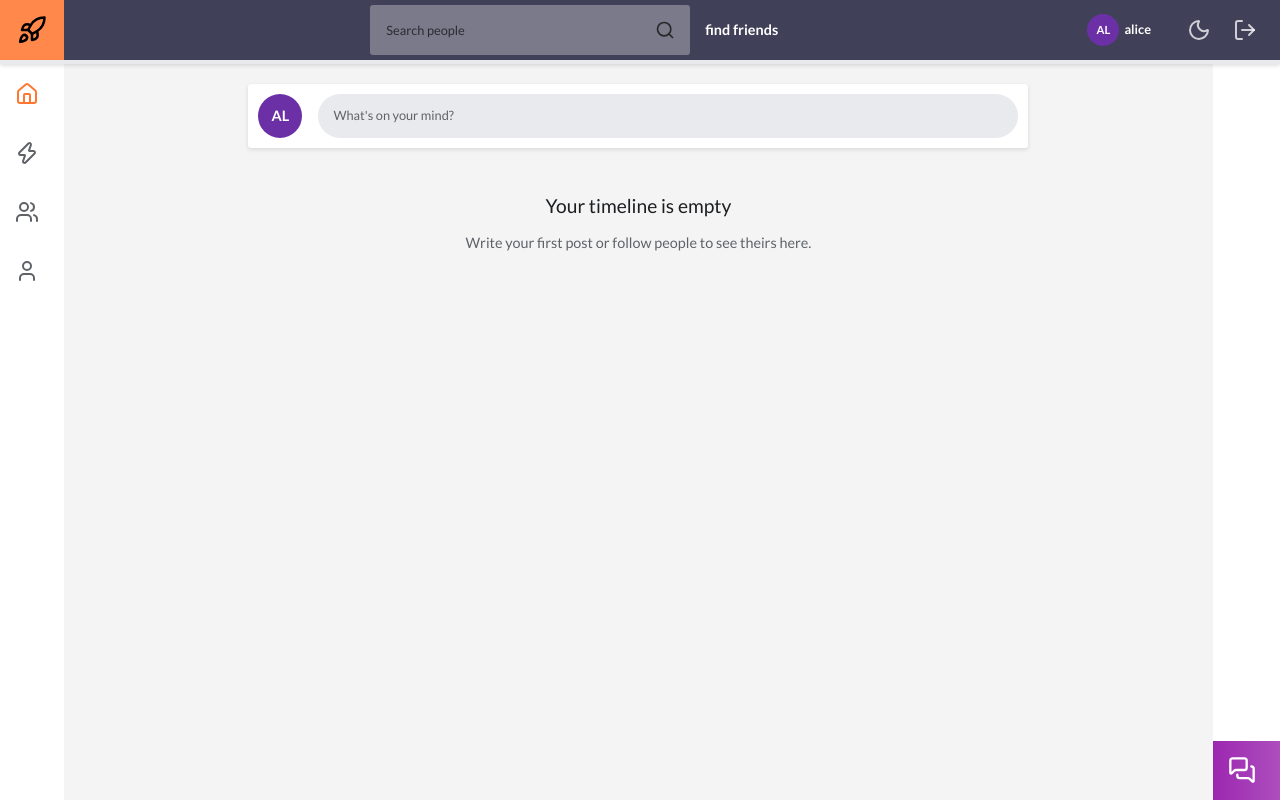
it: own posts › keeps the composer open and shows the field error of the server
Expected: the text "Your timeline is empty" is shown, [546,190,731,223]
Click the button "What's on your mind?" at [394, 115], box [318,94,1018,138]
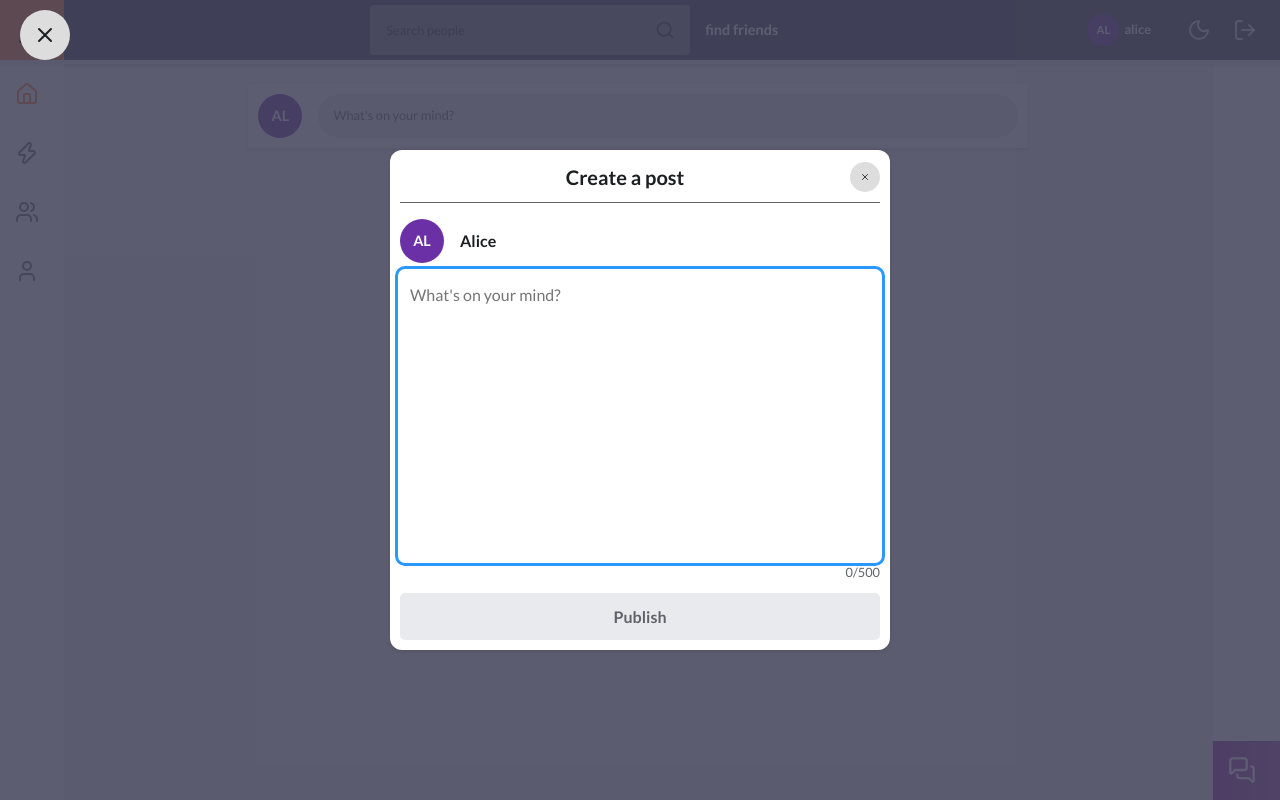
Type "Hello" into the text box named "Post content" at [640, 416], box [400,271,880,561]
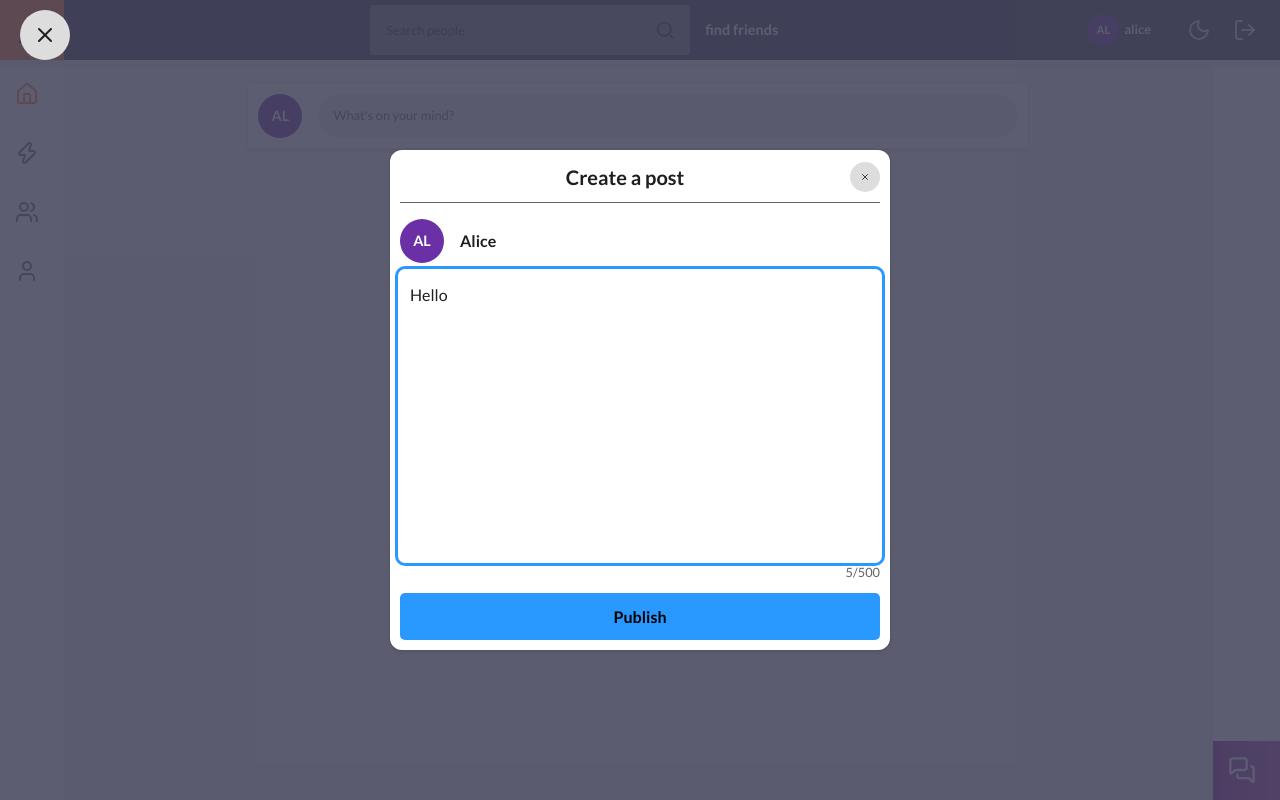
Click the button "Publish" at [640, 616], box [400,593,880,640]
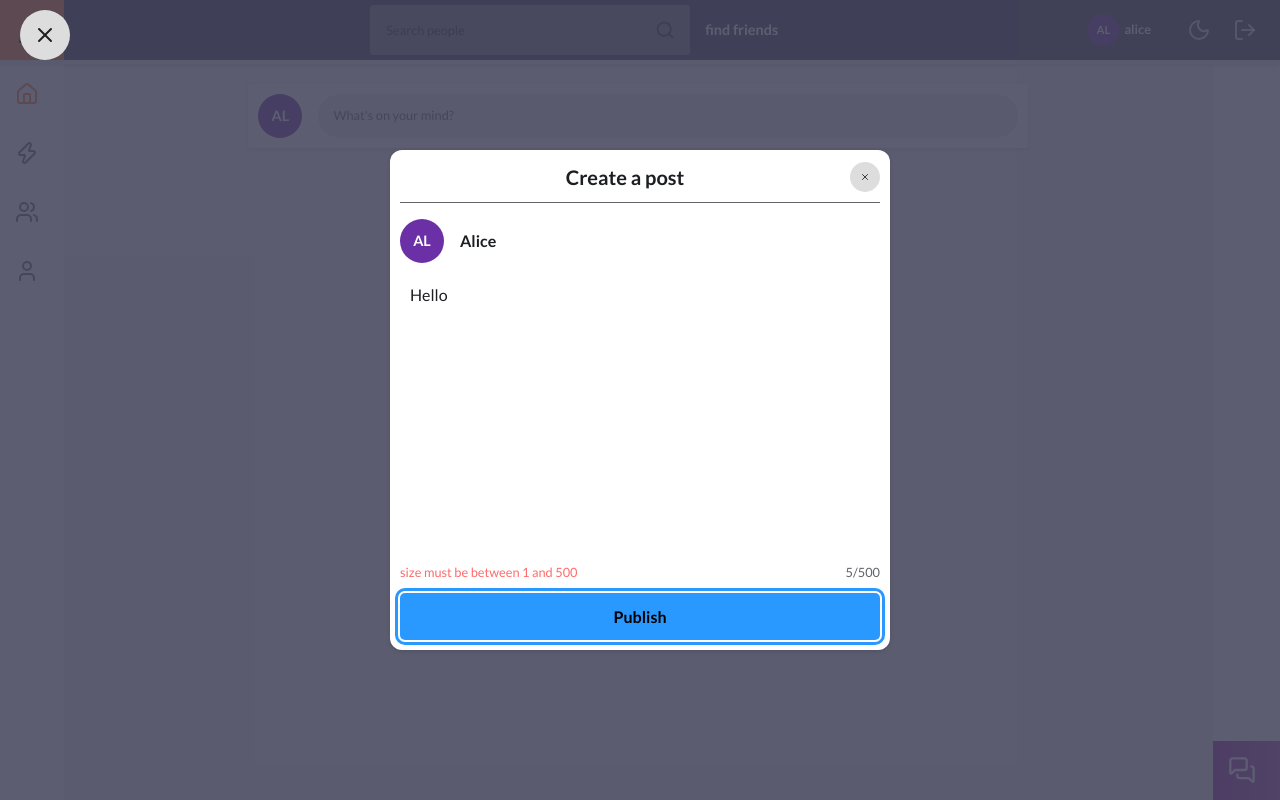
Now the message reads "size must be between 1 and 500", box [400,564,578,580]
Press Escape
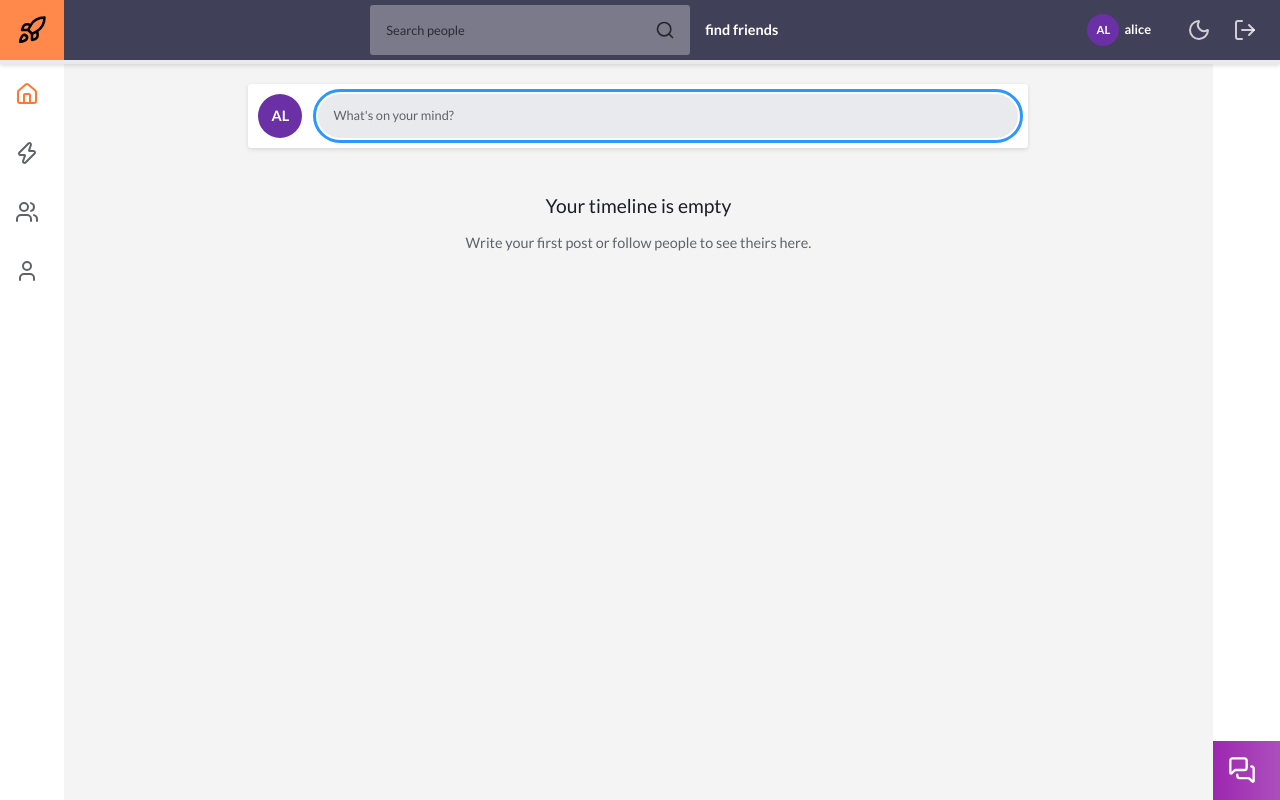
Now the dialog is gone
